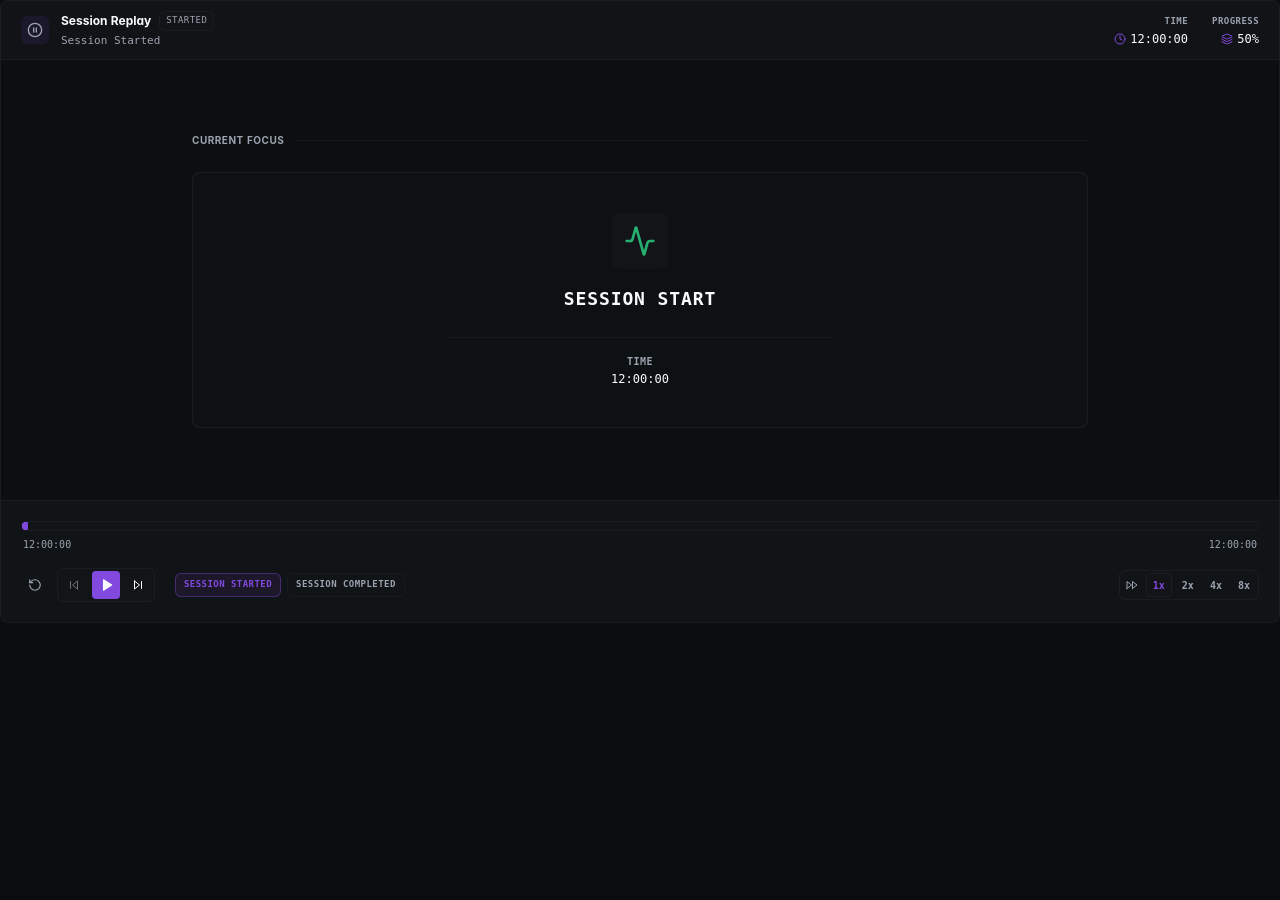
Test case: ReplayView › shows a completion banner after autoplay finishes
Click the button named "play".
click(106, 585)  # box top-left (92, 571), bottom-right (120, 599)
Wait 2000 ms
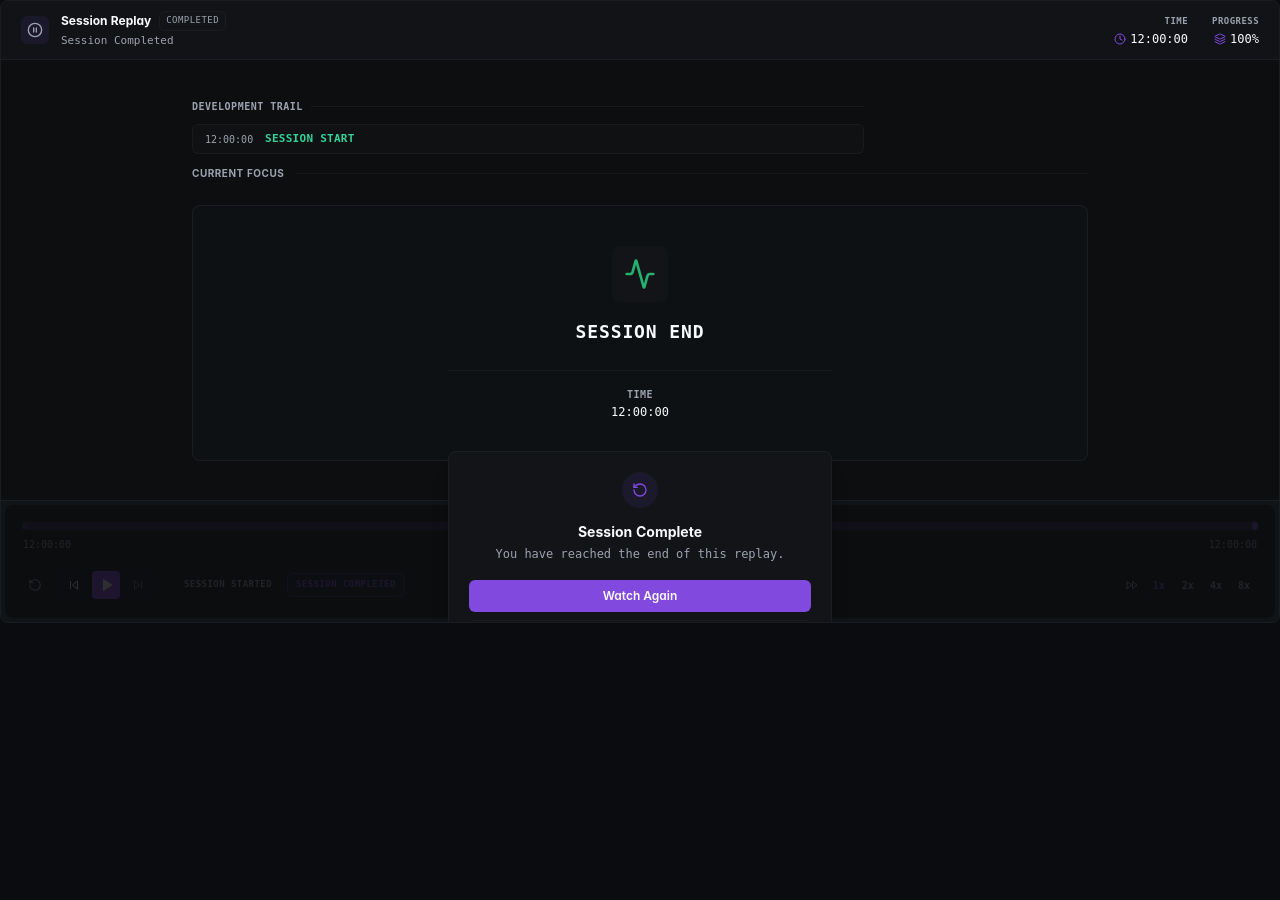
Result: the heading "Session Complete" is shown at top-left (578, 522), bottom-right (702, 540)
Result: the button "Watch Again" is shown at top-left (469, 580), bottom-right (811, 612)
